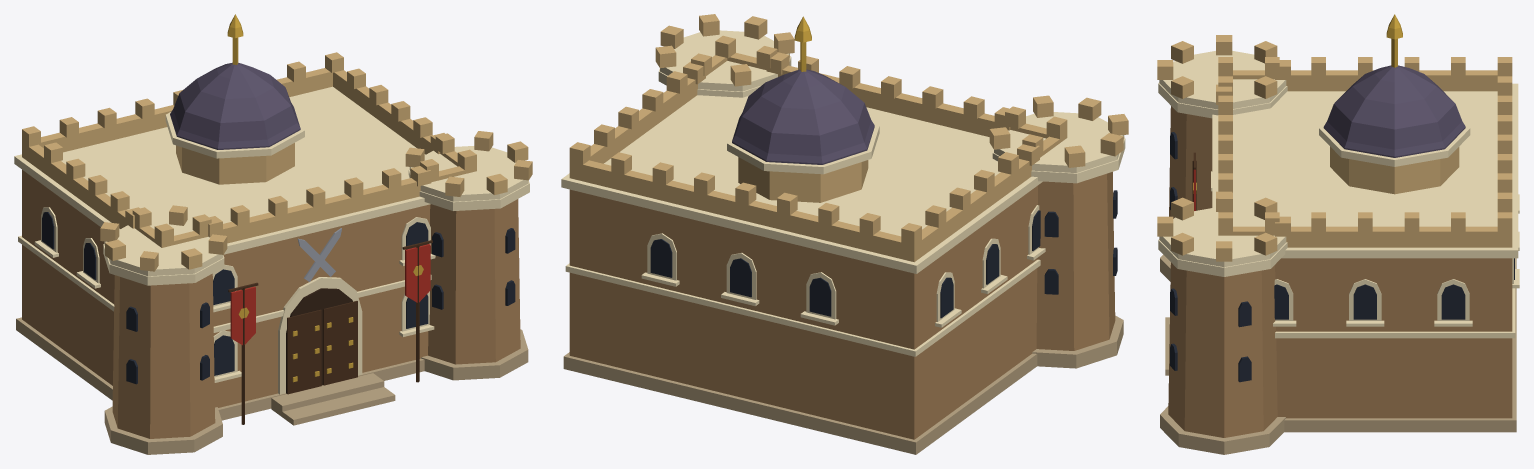
File: mercenary_guild.fbx
3 views of the same model, side by side, from view 1: azimuth 30°, elevation 25°; view 2: azimuth 150°, elevation 25°; view 3: azimuth 270°, elevation 25° (orthographic). The views are drawn at different scales.
Parts seen in each view (by area): view 1: mercenary_guild; view 2: mercenary_guild; view 3: mercenary_guild.
Boxes of the visible parts, x1,y1,x2,y2 form: mercenary_guild: (14,14,532,454); mercenary_guild: (561,14,1128,454); mercenary_guild: (1157,14,1519,454).
Size of the model in its own units: 17.15 by 12.59 by 12.32.
1 material, 1 textured.
